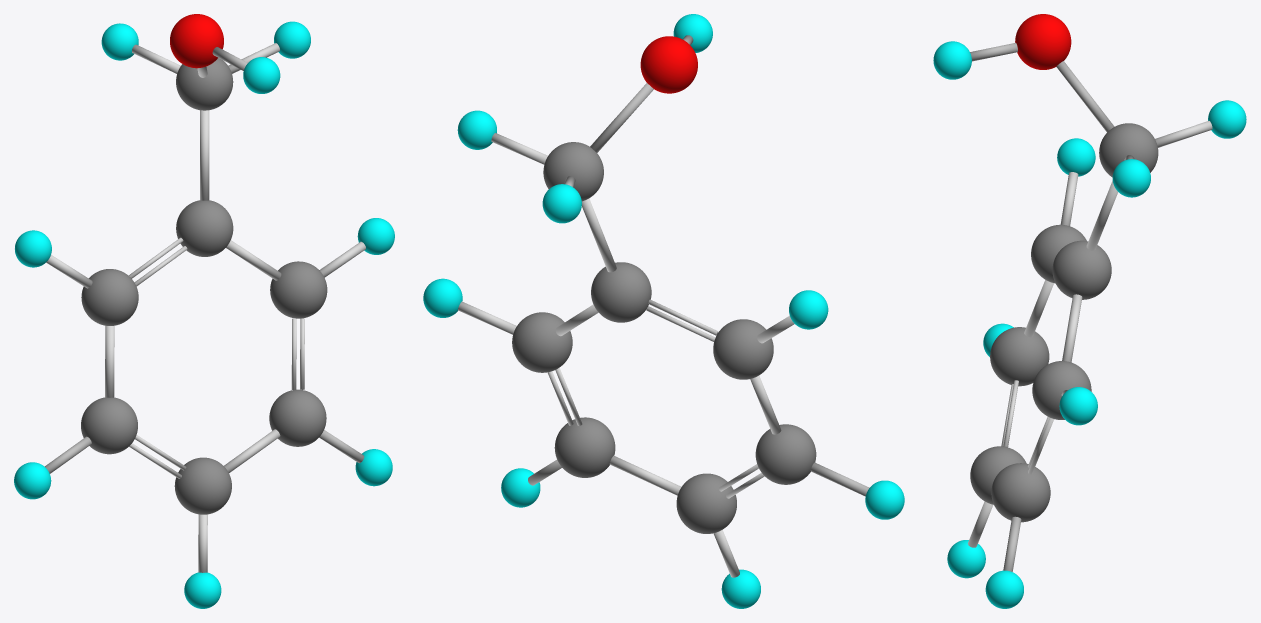
Rendered from benzyl alcohol.glb.
3 renders of one model, left to right at view 1: azimuth 30°, elevation 25°; view 2: azimuth 150°, elevation 25°; view 3: azimuth 270°, elevation 25°, orthographic. The views are drawn at different scales.
Visible parts, largest first — view 1: CMAtom_0; view 2: CMAtom_0; view 3: CMAtom_0.
Part boxes in pixels (box(x1,y1,x2,y2)): CMAtom_0: box(14, 14, 394, 608); CMAtom_0: box(423, 14, 904, 608); CMAtom_0: box(933, 14, 1246, 608).
Size of the model in its own units: 0.5131 by 0.6606 by 0.3256.
